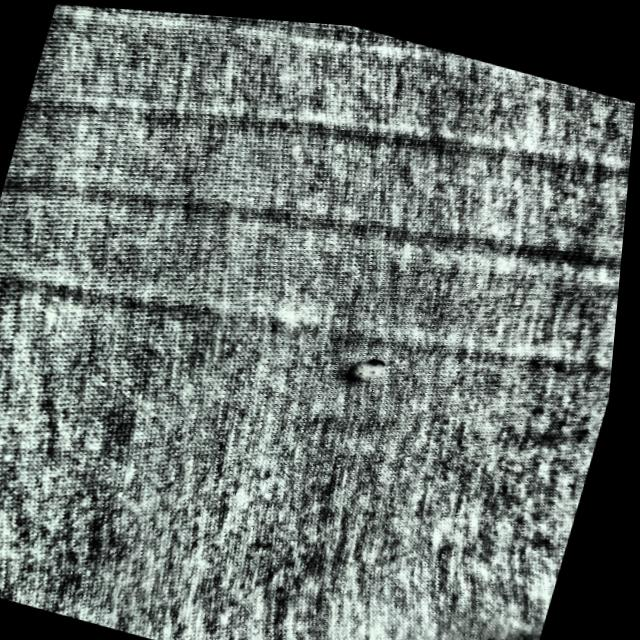Hole: (325, 332, 412, 397)
